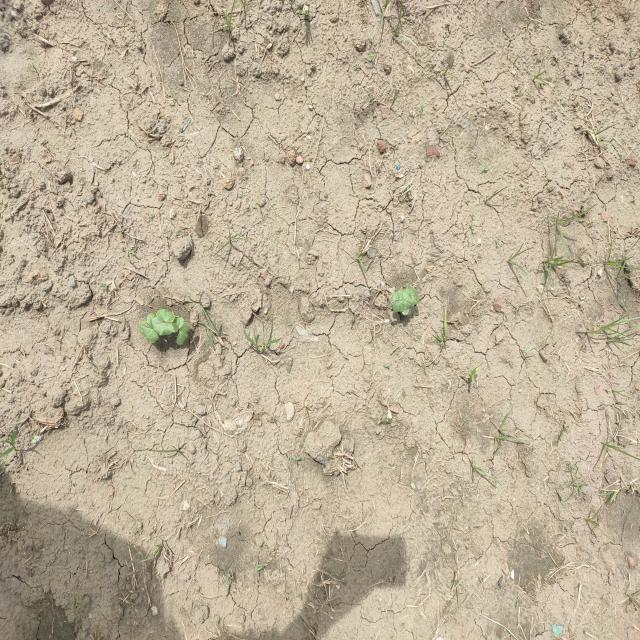seedling_s2: (393, 290, 412, 312), (140, 321, 158, 343), (153, 317, 172, 335), (176, 322, 190, 345), (406, 286, 420, 306), (156, 309, 175, 322), (171, 317, 184, 332), (147, 314, 155, 328)
